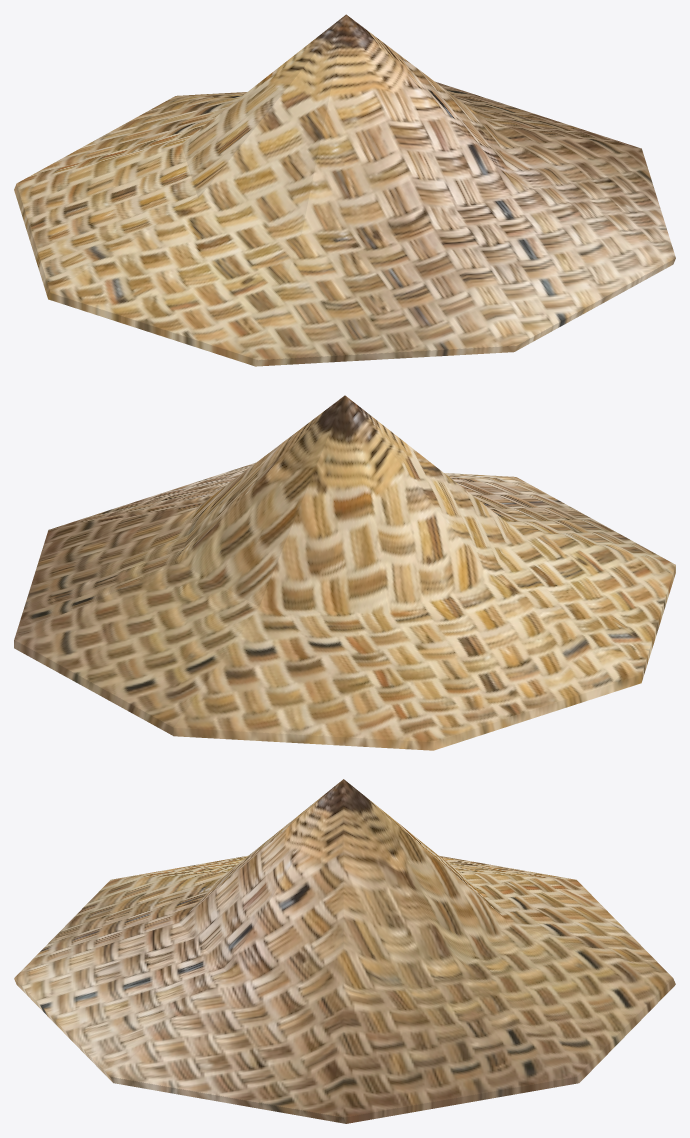
The model's file is salakot.glb.
3 views of the same model, one above another, from view 1: azimuth 30°, elevation 25°; view 2: azimuth 150°, elevation 25°; view 3: azimuth 270°, elevation 25° (orthographic). The views are drawn at different scales.
Visible parts, largest first — view 1: Salakot Overlay, Salakot; view 2: Salakot Overlay, Salakot; view 3: Salakot Overlay, Salakot.
Part boxes in pixels (<box>): Salakot Overlay: <box>14,14,675,366</box>; Salakot: <box>14,184,675,366</box>; Salakot Overlay: <box>14,395,675,750</box>; Salakot: <box>14,565,675,750</box>; Salakot Overlay: <box>14,779,674,1123</box>; Salakot: <box>14,890,675,1123</box>.
Bounding box in the file's own units: 3.01 × 1.04 × 3.01.
Materials: 2 (2 with a texture image).
